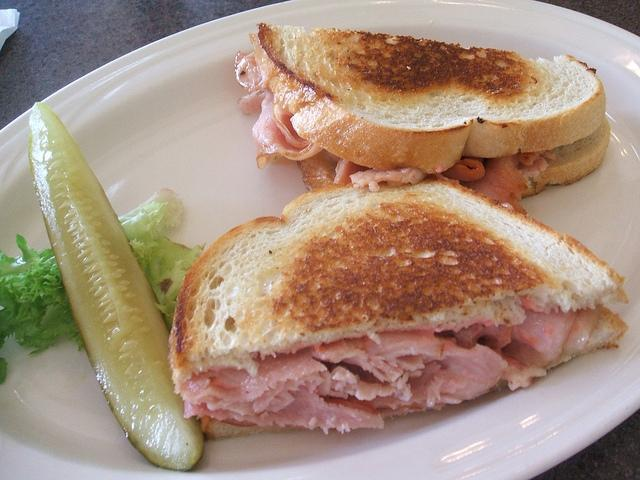lettuce: (5, 255, 70, 306)
